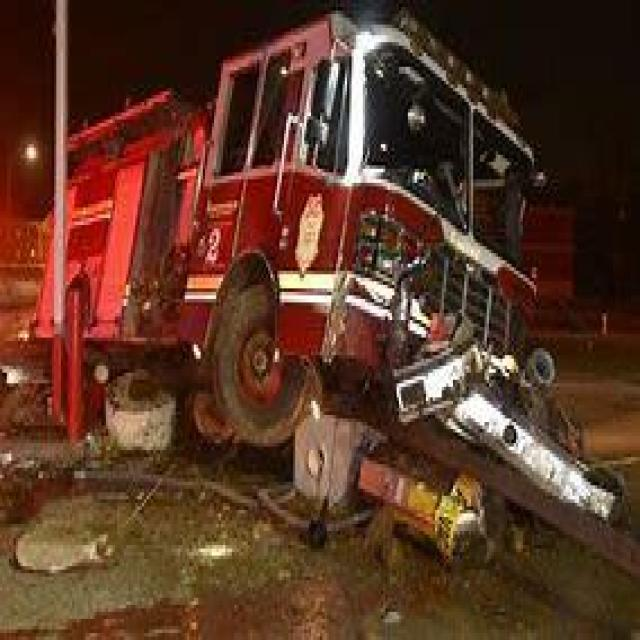Nguy hiểm: (59, 9, 636, 571)
